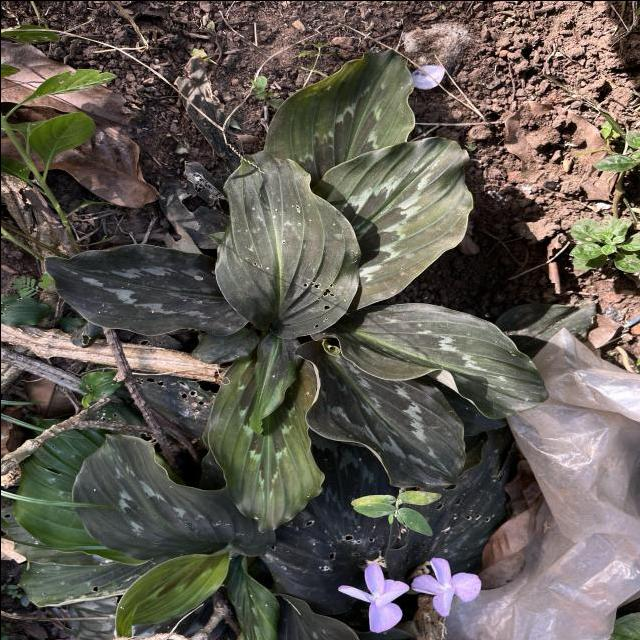Kaempferia galanga linn: (305, 299, 550, 421), (310, 133, 474, 313), (212, 148, 362, 342), (69, 432, 278, 564), (291, 338, 468, 492), (205, 348, 326, 536), (40, 242, 249, 338), (262, 46, 416, 166), (246, 332, 303, 438)
